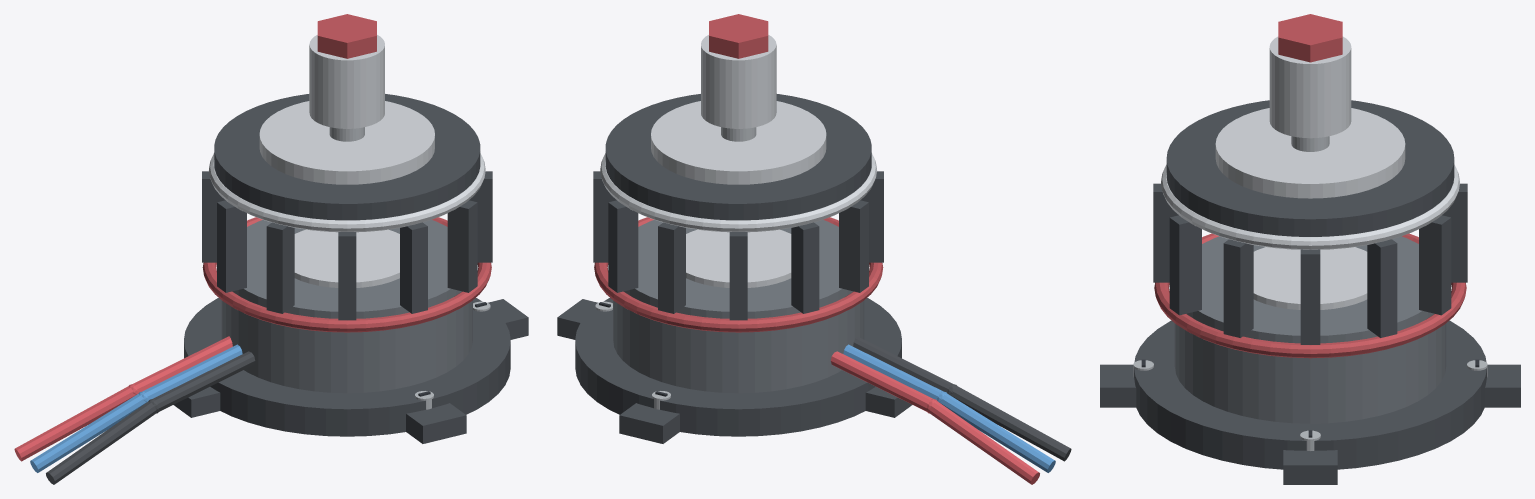
The model's file is motor_5010_360kv.glb.
The picture shows the model from 3 angles, left to right: view 1: azimuth 30°, elevation 25°; view 2: azimuth 150°, elevation 25°; view 3: azimuth 270°, elevation 25°; orthographic projection. The views are drawn at different scales.
Visible parts, largest first — view 1: stator_core, mount_base, bell_top, top_cap, prop_adapter, bearing_housing, bell_lower_ring, bell_upper_ring, bell_pillar_2, bell_pillar_6, bell_pillar_5, bell_pillar_3 (+13 smaller); view 2: stator_core, mount_base, bell_top, top_cap, prop_adapter, bearing_housing, bell_lower_ring, bell_upper_ring, bell_pillar_10, bell_pillar_6, bell_pillar_7, bell_pillar_9 (+13 smaller); view 3: stator_core, mount_base, bell_top, top_cap, prop_adapter, bearing_housing, bell_lower_ring, bell_upper_ring, bell_pillar_2, bell_pillar_10, bell_pillar_1, bell_pillar_11 (+8 smaller).
Part boxes in pixels (<box>): stator_core: <box>221,219,472,393</box>; mount_base: <box>184,297,510,436</box>; bell_top: <box>214,94,480,220</box>; top_cap: <box>259,101,434,184</box>; prop_adapter: <box>309,35,384,128</box>; bearing_housing: <box>294,229,399,287</box>; bell_lower_ring: <box>202,217,491,332</box>; bell_upper_ring: <box>209,153,485,232</box>; bell_pillar_2: <box>447,200,477,292</box>; bell_pillar_6: <box>217,200,246,292</box>; bell_pillar_5: <box>266,222,294,313</box>; bell_pillar_3: <box>400,222,427,313</box>; stator_core: <box>613,219,864,393</box>; mount_base: <box>575,297,901,436</box>; bell_top: <box>605,94,871,220</box>; top_cap: <box>651,101,826,184</box>; prop_adapter: <box>701,35,776,128</box>; bearing_housing: <box>686,229,791,287</box>; bell_lower_ring: <box>594,217,883,332</box>; bell_upper_ring: <box>600,153,876,232</box>; bell_pillar_10: <box>608,200,638,292</box>; bell_pillar_6: <box>839,200,868,292</box>; bell_pillar_7: <box>791,222,819,313</box>; bell_pillar_9: <box>658,222,685,313</box>; stator_core: <box>1174,236,1446,423</box>; mount_base: <box>1134,320,1486,469</box>; bell_top: <box>1166,100,1454,236</box>; top_cap: <box>1215,108,1405,198</box>; prop_adapter: <box>1269,36,1351,138</box>; bearing_housing: <box>1253,247,1367,309</box>; bell_lower_ring: <box>1154,233,1466,358</box>; bell_upper_ring: <box>1161,164,1459,249</box>; bell_pillar_2: <box>1169,215,1201,315</box>; bell_pillar_10: <box>1419,215,1451,315</box>; bell_pillar_1: <box>1223,239,1253,337</box>; bell_pillar_11: <box>1367,239,1397,337</box>.
Size of the model in its own units: 0.1107 by 0.0805 by 0.0772.
